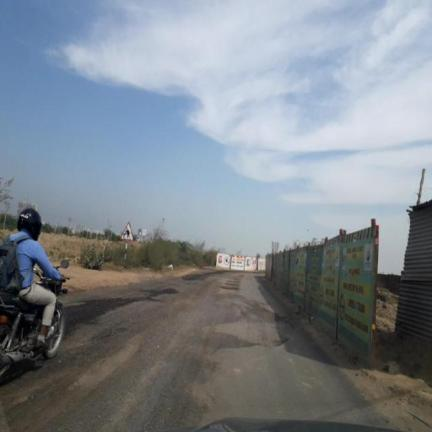Road: (0, 270, 386, 431)
